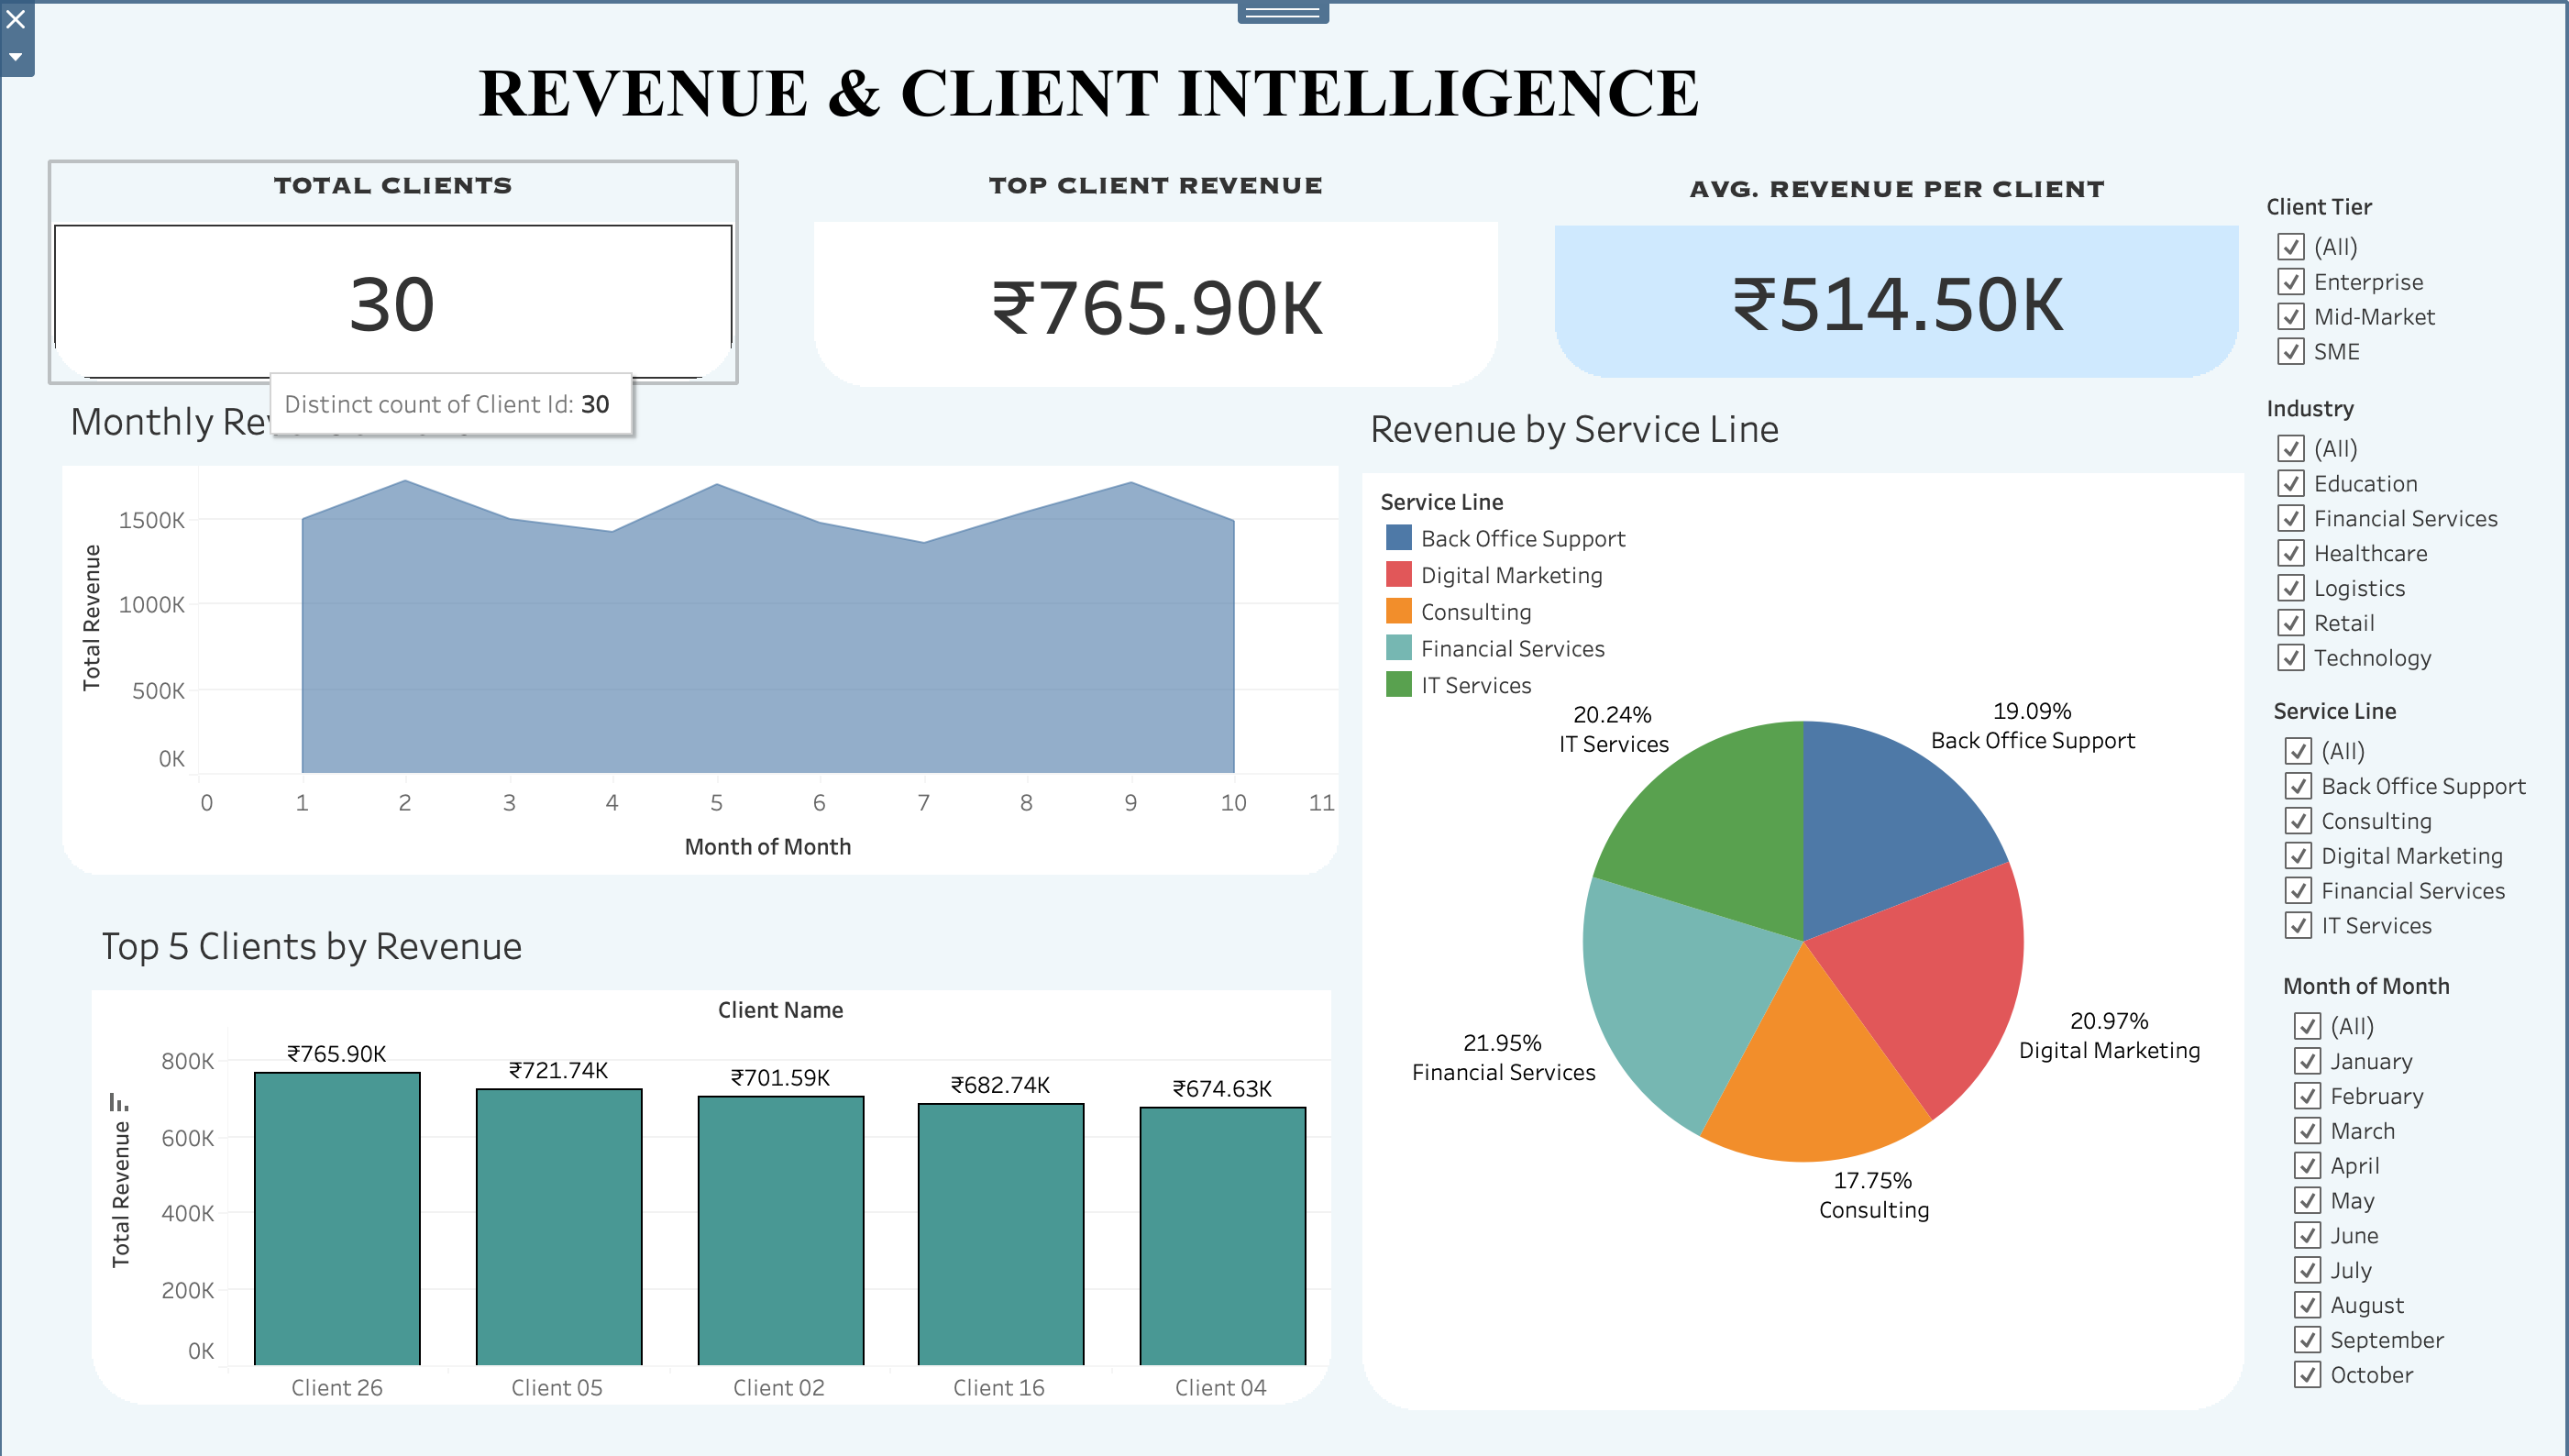

This screenshot's page, from the dashboard's own definition file:
{"tool":"tableau","page":{"name":"Revenue & Client Intelligence","canvas":[1000,1000],"units":"permille","ordinal":3},"visuals":[{"type":"text","box":[187.1,28.5,623.3,82.9]},{"type":"worksheet","title":"KPI - Total Clients","mark":"Automatic","box":[24.7,117.6,263.6,147.3]},{"type":"worksheet","title":"KPI - Top Client Revenue","mark":"Automatic","box":[318.9,117.6,263.6,151]},{"type":"worksheet","title":"KPI - Average Revenue per Client","mark":"Automatic","box":[604.6,120,263.6,142.3]},{"type":"filter","title":"Top 5 Clients by Revenue","param":"[federated.136wsys108fpxp163rrxk1fn8qsv].[none:client_tier:nk]","box":[879.2,136.1,96.1,123.8]},{"type":"worksheet","title":"Monthly Revenue Trend","mark":"Area","rows":["total_revenue"],"cols":["month"],"box":[28.9,268.6,492.4,329.2]},{"type":"filter","title":"Top 5 Clients by Revenue","param":"[federated.136wsys108fpxp163rrxk1fn8qsv].[none:industry:nk]","box":[879.2,272.3,116.5,194.3]},{"type":"worksheet","title":"Revenue by Service Line","mark":"Pie","box":[530.6,273.5,340.1,685.6]},{"type":"legend","title":"Revenue by Service Line","param":"[federated.1idd2u50sx510h17h4txp1icwzi6].[none:service_line:nk]","box":[537.4,335.4,119,146]},{"type":"filter","title":"Revenue by Service Line","param":"[federated.1idd2u50sx510h17h4txp1icwzi6].[none:service_line:nk]","box":[881.8,476.5,118.2,170.8]},{"type":"worksheet","title":"Top 5 Clients by Revenue","mark":"Bar","rows":["total_revenue"],"cols":["client_name"],"box":[40,622.5,478.7,332.9]},{"type":"filter","title":"Monthly Revenue Trend","param":"[federated.0e0zl1e1fa8v7d16r2mkf0jjfn5c].[mn:month:ok]","box":[885.2,662.1,82.5,288.4]}]}

Visuals, with their boxes on the dashboard's canvas, which has no fixed pixel size, in thousandths of its width and height (x1, y1, x2, y2). These are canvas units, not pixel positions in the 2569x1456 screenshot, which may show the page scaled, cropped or inside an application window:
text: 187, 28, 810, 111
"KPI - Total Clients" worksheet: 25, 118, 288, 265
"KPI - Top Client Revenue" worksheet: 319, 118, 582, 269
"KPI - Average Revenue per Client" worksheet: 605, 120, 868, 262
"Top 5 Clients by Revenue" filter: 879, 136, 975, 260
"Monthly Revenue Trend" worksheet (Area marks): 29, 269, 521, 598
"Top 5 Clients by Revenue" filter: 879, 272, 996, 467
"Revenue by Service Line" worksheet (Pie marks): 531, 274, 871, 959
"Revenue by Service Line" legend: 537, 335, 656, 481
"Revenue by Service Line" filter: 882, 476, 1000, 647
"Top 5 Clients by Revenue" worksheet (Bar marks): 40, 622, 519, 955
"Monthly Revenue Trend" filter: 885, 662, 968, 950
